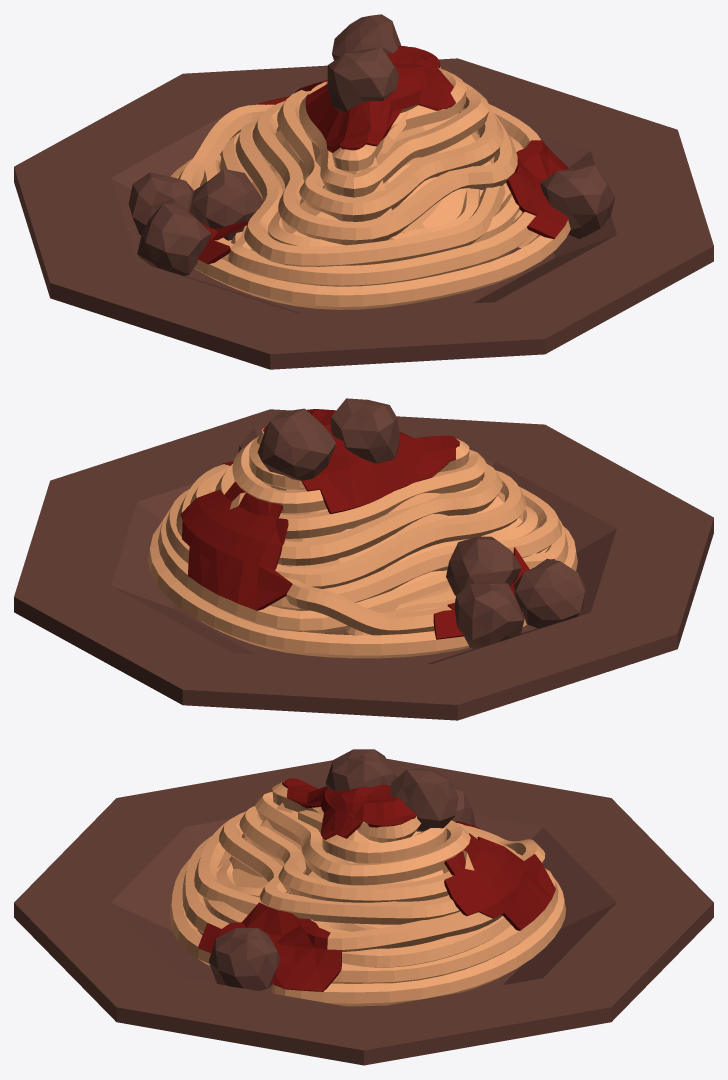
Rendered from Spagetthi_Meatballs.fbx.
3 renders of one model, top to bottom at view 1: azimuth 30°, elevation 25°; view 2: azimuth 150°, elevation 25°; view 3: azimuth 270°, elevation 25°, orthographic. The views are drawn at different scales.
Visible parts, largest first — view 1: Spagethi_&_Meatballs; view 2: Spagethi_&_Meatballs; view 3: Spagethi_&_Meatballs.
Part boxes in pixels (x1=…): Spagethi_&_Meatballs: x1=14, y1=14, x2=713, y2=369; Spagethi_&_Meatballs: x1=14, y1=398, x2=713, y2=720; Spagethi_&_Meatballs: x1=14, y1=749, x2=713, y2=1065.
Bounding box in the file's own units: 312 × 95.63 × 312.
